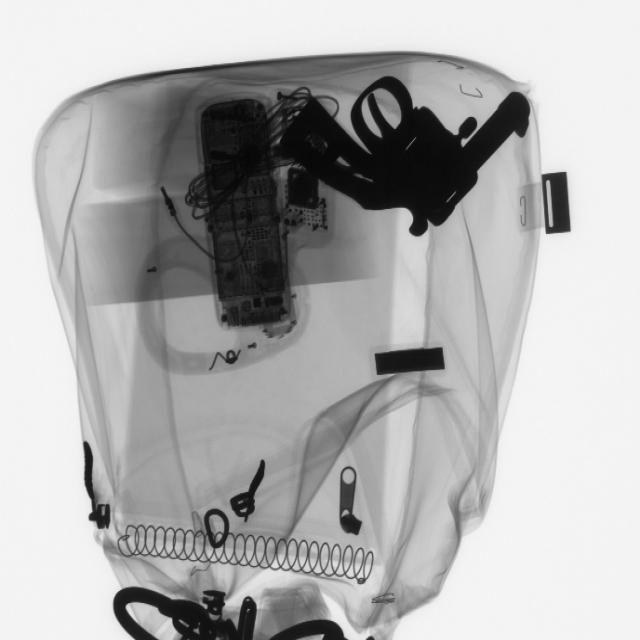GUN: (267, 65, 540, 241), (102, 590, 332, 640)
